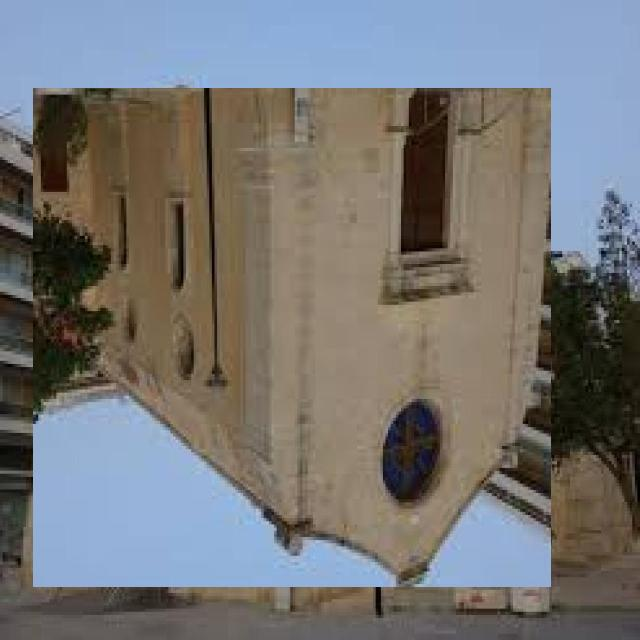Agia Aikaterini: (35, 89, 553, 588)
